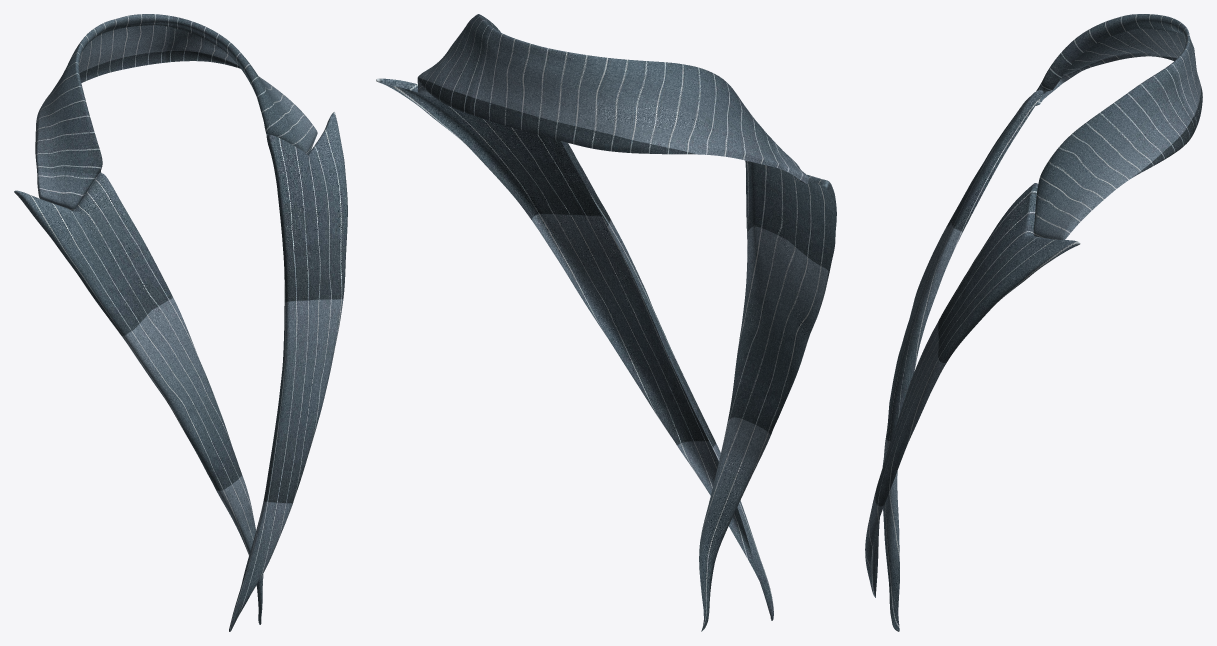
Rendered from peak_lapel.glb.
The picture shows the model from 3 angles, left to right: view 1: azimuth 30°, elevation 25°; view 2: azimuth 150°, elevation 25°; view 3: azimuth 270°, elevation 25°; orthographic projection. The views are drawn at different scales.
Parts seen in each view (by area): view 1: lapel_front, lapel_back; view 2: lapel_front, lapel_back; view 3: lapel_back, lapel_front.
Boxes of the visible parts, x1=… form: lapel_front: x1=14, y1=111, x2=347, y2=631; lapel_back: x1=35, y1=14, x2=317, y2=210; lapel_front: x1=376, y1=78, x2=836, y2=631; lapel_back: x1=417, y1=14, x2=809, y2=184; lapel_back: x1=1033, y1=14, x2=1202, y2=239; lapel_front: x1=865, y1=90, x2=1080, y2=631.
Bounding box in the file's own units: 28.05 × 43.01 × 22.4.
1 material, 1 textured.
